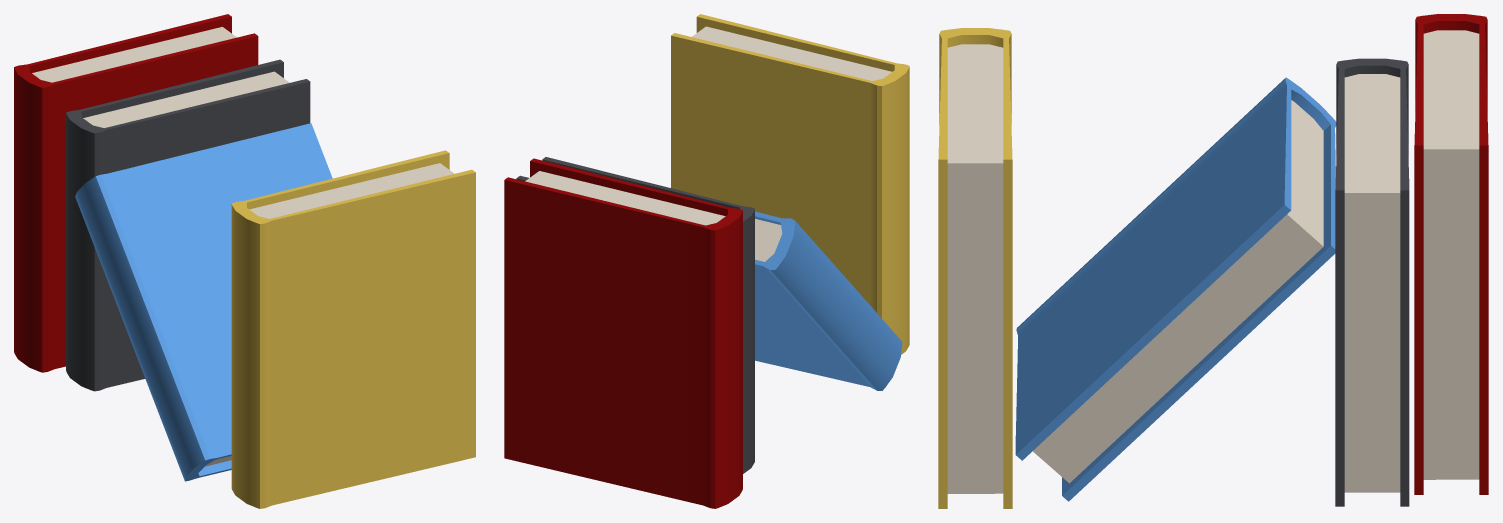
Rendered from BookPile1.fbx.
3 views of the same model, side by side, from view 1: azimuth 30°, elevation 25°; view 2: azimuth 150°, elevation 25°; view 3: azimuth 270°, elevation 25° (orthographic). The views are drawn at different scales.
Visible parts, largest first — view 1: polySurface105; view 2: polySurface105; view 3: polySurface105.
Part boxes in pixels (<box>): polySurface105: <box>14,14,475,508</box>; polySurface105: <box>504,14,909,508</box>; polySurface105: <box>938,14,1488,508</box>.
Bounding box in the file's own units: 0.5003 × 0.571 × 0.7988.
